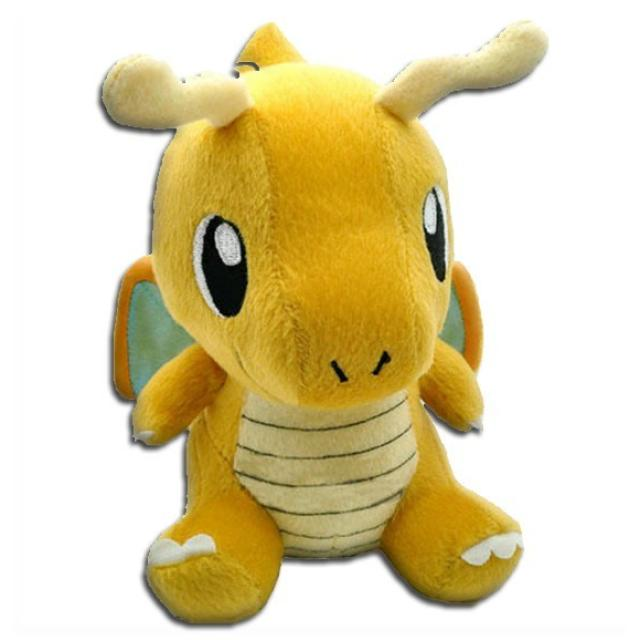Dragonite: (98, 51, 514, 604)
